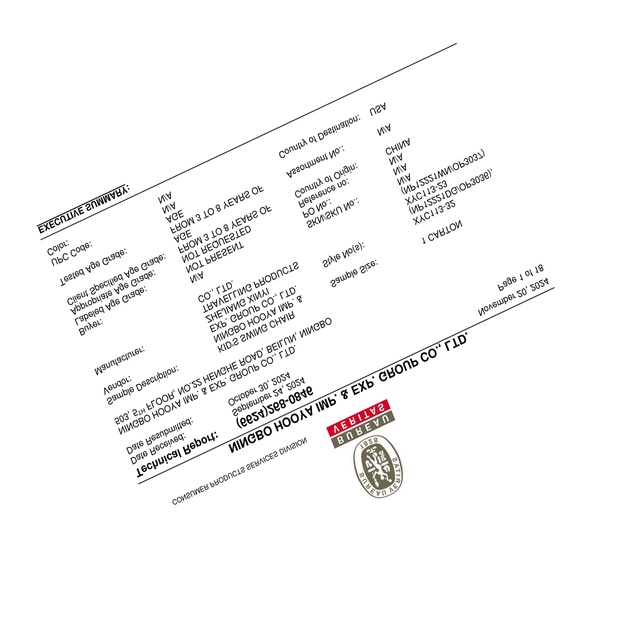bureau_veritas: (327, 397, 404, 499)
